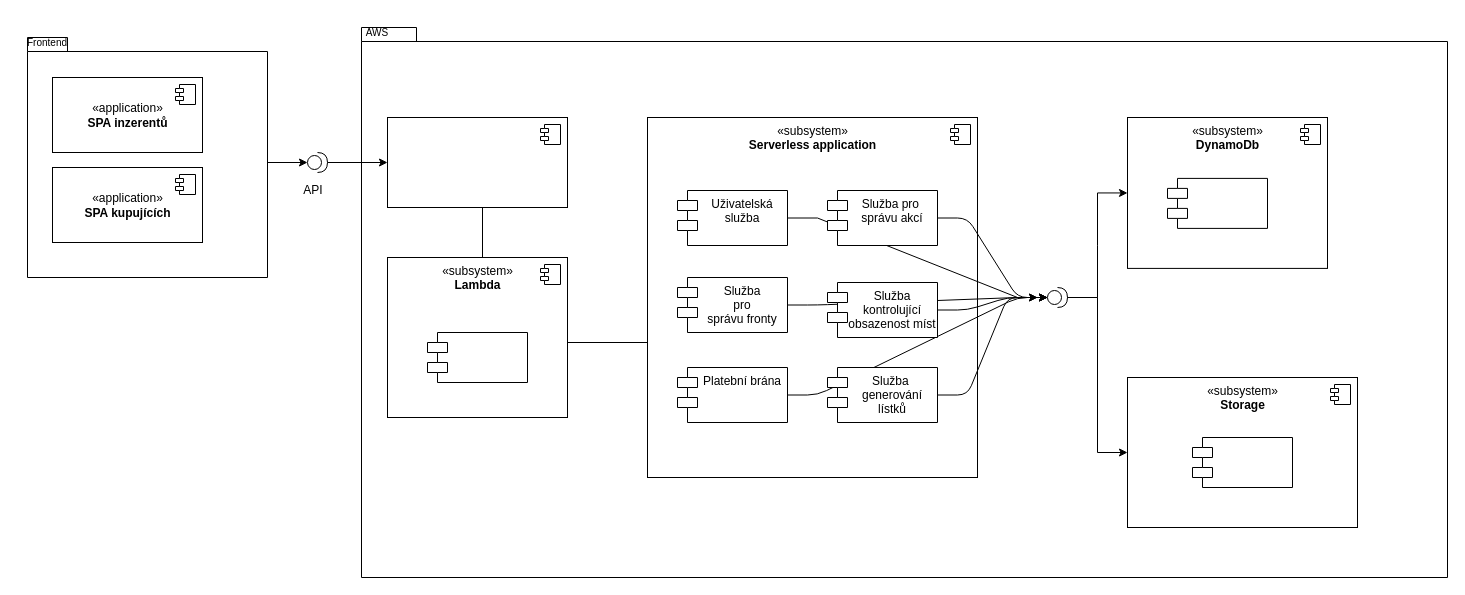
The diagram is 1465 pixels wide and 595 high, and some of its shapes have lost their labels. The centre of each missing label's shape, as x and y in pixels:
"AWS SDK" belongs at [1057,297].
"DynamoDB" belongs at [1217,202].
"Mediator" belongs at [477,357].
"S3" belongs at [1242,462].
"«subsystem» Elastic Load Balancer" belongs at [477,162].
